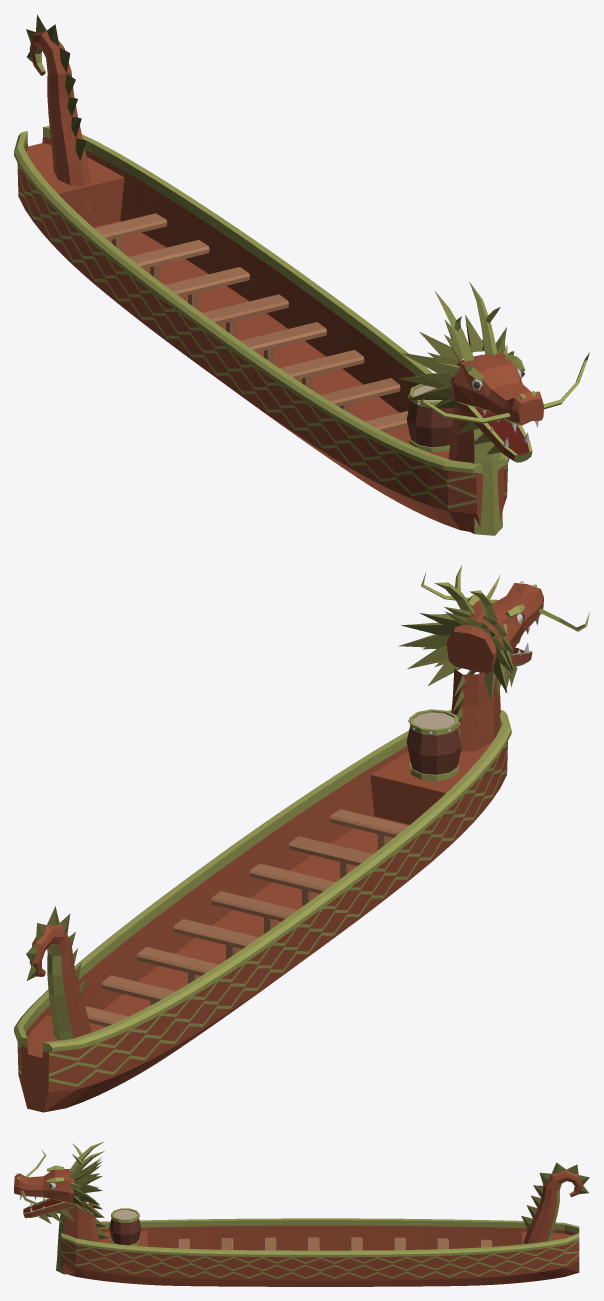
Rendered from dragon-boat-1c79b1.glb.
3 views of the same model, one above another, from view 1: azimuth 30°, elevation 25°; view 2: azimuth 150°, elevation 25°; view 3: azimuth 270°, elevation 25° (orthographic). The views are drawn at different scales.
Parts seen in each view (by area): view 1: body, drum-mesh, jaw-mesh; view 2: body, drum-mesh; view 3: body, drum-mesh, jaw-mesh.
Part boxes in pixels (x1,y1,x2,y2): body: (14,14,589,535); drum-mesh: (406,384,453,452); jaw-mesh: (458,402,532,462); body: (14,565,589,1112); drum-mesh: (406,709,461,781); body: (14,1141,589,1286); drum-mesh: (109,1208,141,1245); jaw-mesh: (23,1198,75,1223).
Size of the model in its own units: 2.04 by 2.71 by 10.8.
